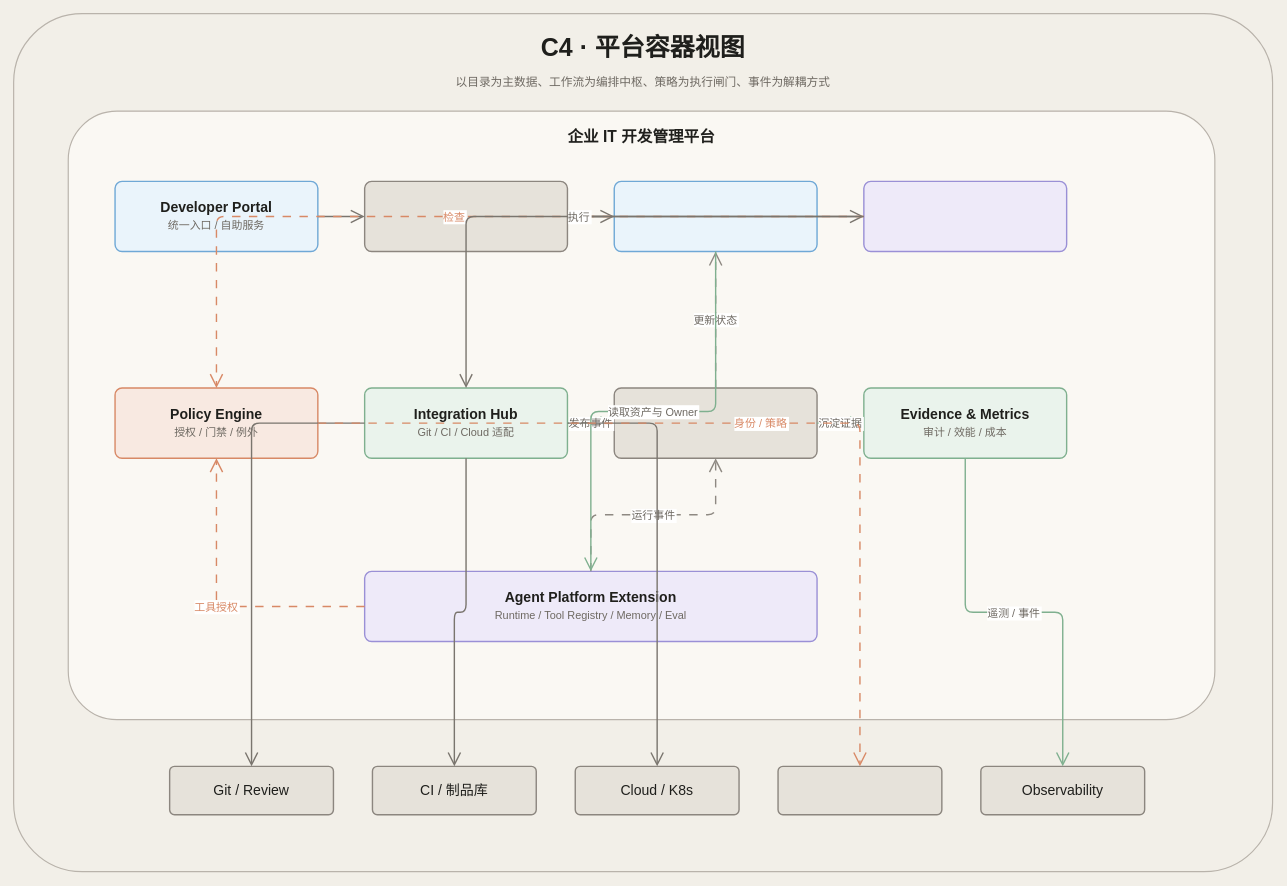
Some shapes in this 1287 by 886 pixel diagram are drawn without their labels. Each missing label, with the centre of its shape:
Event Bus 领域事件 / 状态变化: the point at 715,423
IAM / CMDB: the point at 859,790
Platform API 统一 API / BFF: the point at 466,216
Software Catalog 资产、关系、Owner: the point at 715,216
Workflow Engine 需求 / 交付 / 审批: the point at 965,216
